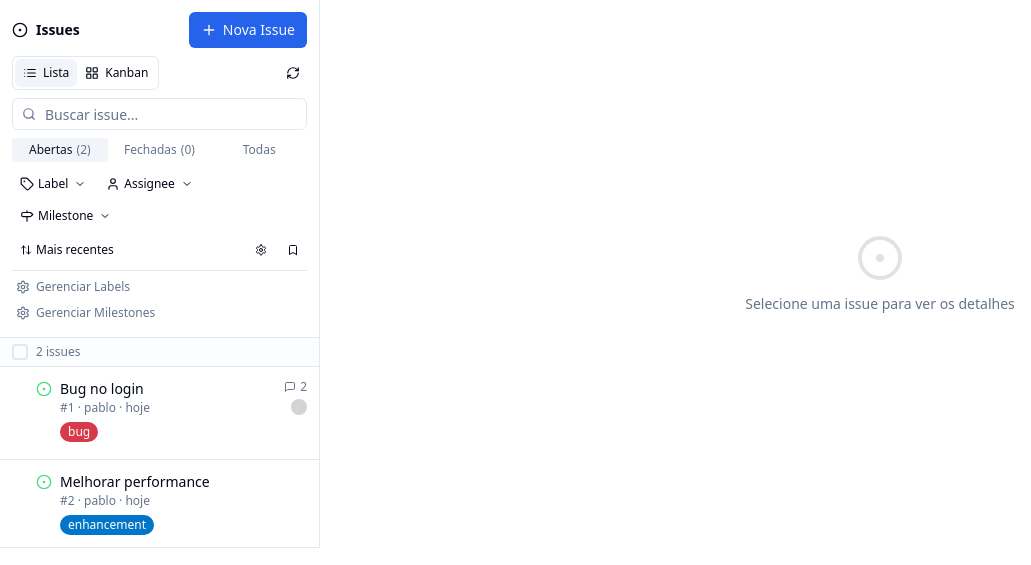
IssuesManager › busca de issues › filtra por número da issue
Type "2" into the field with placeholder "Buscar issue...".
click(160, 114); type("2")  # box [12,98,307,130]
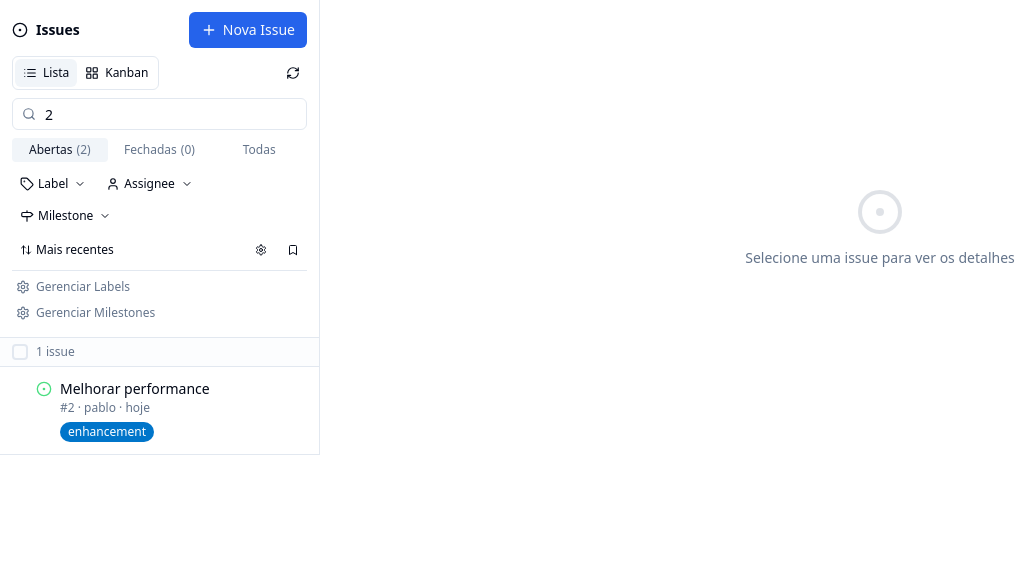
expect the text "Melhorar performance" is shown: met, box [60,379,210,398]
expect the text "Bug no login" is gone: met
